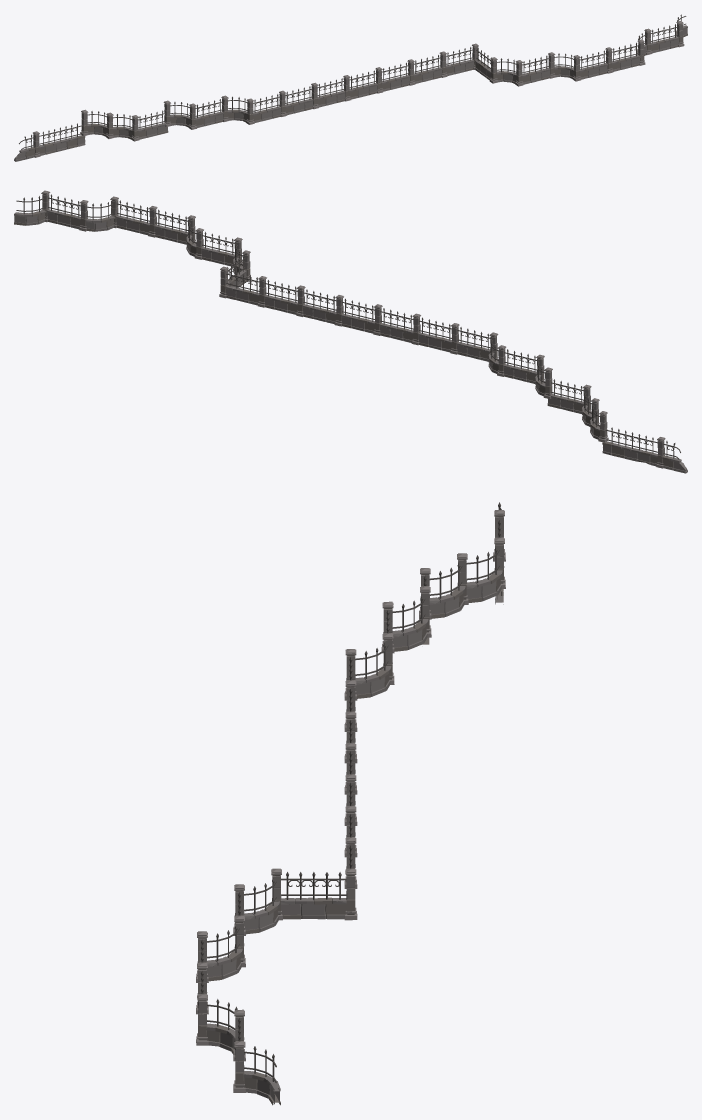
Rendered from FenceBig.fbx.
The picture shows the model from 3 angles, top to bottom: view 1: azimuth 30°, elevation 25°; view 2: azimuth 150°, elevation 25°; view 3: azimuth 270°, elevation 25°; orthographic projection. The views are drawn at different scales.
Visible parts, largest first — view 1: wall_graveyard_1m_corner__4_; view 2: wall_graveyard_1m_corner__4_; view 3: wall_graveyard_1m_corner__4_.
Boxes of the visible parts, x1,y1,x2,y2 form: wall_graveyard_1m_corner__4_: (14, 14, 687, 161); wall_graveyard_1m_corner__4_: (14, 190, 687, 473); wall_graveyard_1m_corner__4_: (196, 502, 505, 1105).
Bounding box in the file's own units: 3835 × 243 × 834.
